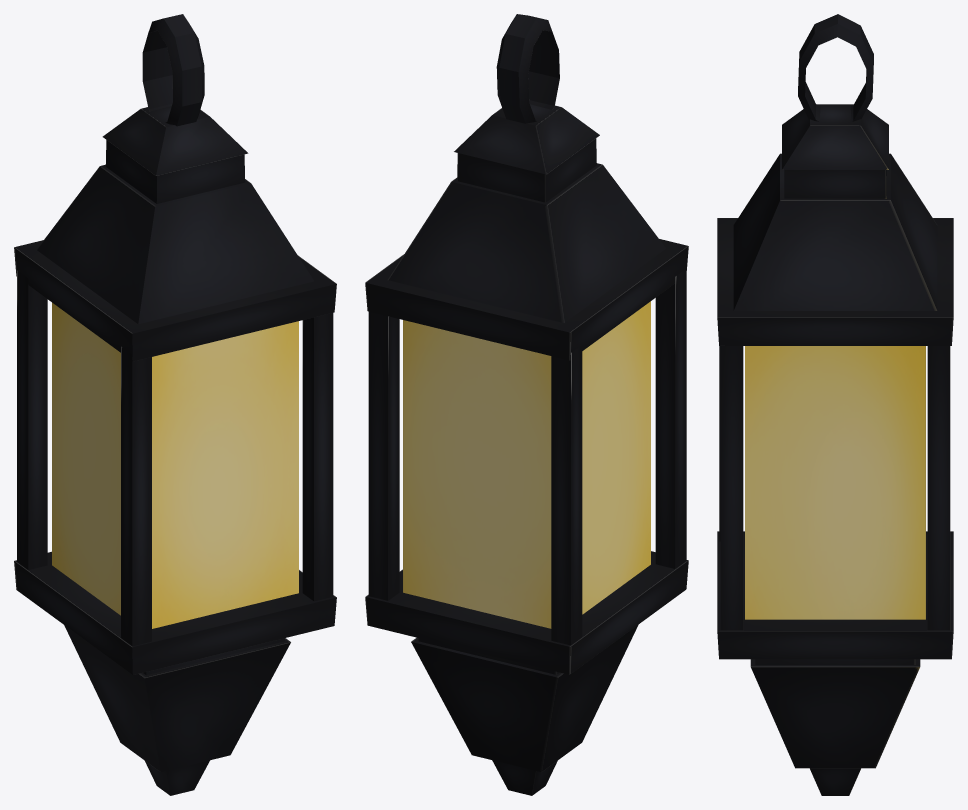
File: LanternAsset.fbx
3 views of the same model, side by side, from view 1: azimuth 30°, elevation 25°; view 2: azimuth 150°, elevation 25°; view 3: azimuth 270°, elevation 25° (orthographic).
Visible parts, largest first — view 1: polySurface3; view 2: polySurface3; view 3: polySurface3.
Boxes of the visible parts, box(x1,y1,x2,y2) form: polySurface3: box(14, 14, 336, 795); polySurface3: box(365, 14, 688, 795); polySurface3: box(717, 14, 953, 795).
Size of the model in its own units: 3.97 by 14.27 by 3.97.
Materials: 1 (1 with a texture image).
